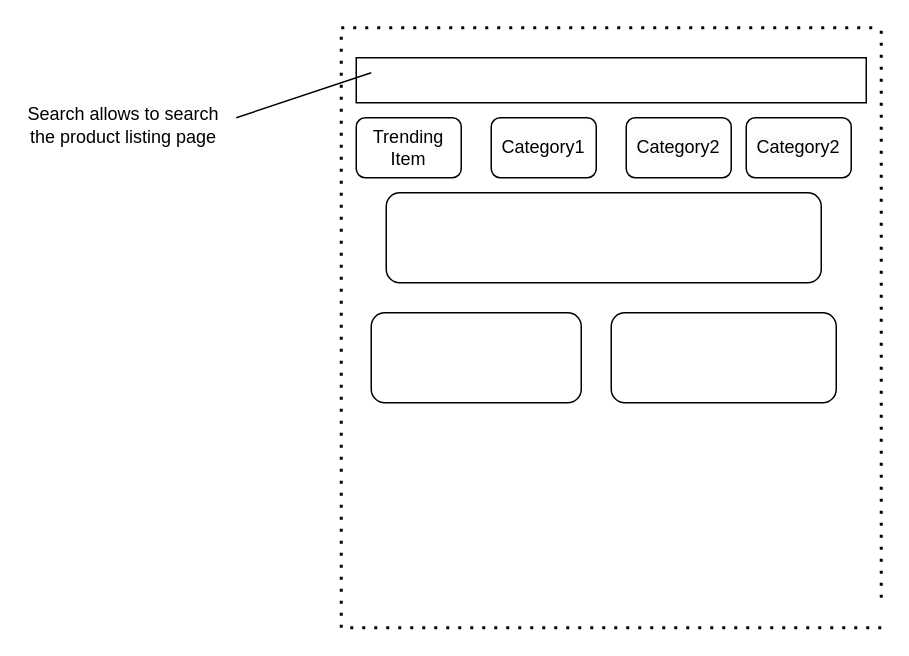
Some shapes in this 909 by 656 pixel diagram are drawn without their labels. Each missing label, with the centre of its shape:
PROMOTIONS: (x=603, y=237)
Search Bar: (x=610, y=79)
